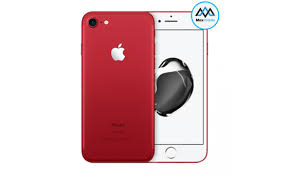iphone7: (78, 10, 156, 165), (154, 8, 213, 164)
